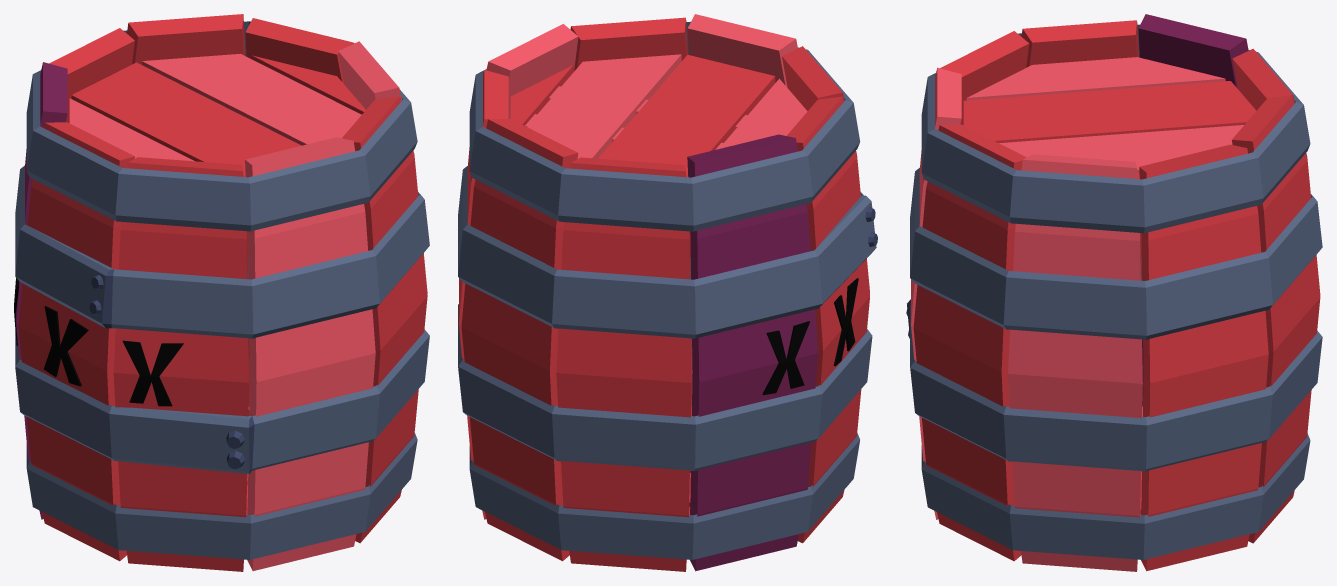
Rendered from Barrel 2_5b.fbx.
3 views of the same model, side by side, from view 1: azimuth 30°, elevation 25°; view 2: azimuth 150°, elevation 25°; view 3: azimuth 270°, elevation 25° (orthographic).
Visible parts, largest first — view 1: Barrel 2_5b.006, Barrel 2_5b.012, Barrel 2_5b.007, Barrel 2_5b.002, Barrel 2_5b.011, Barrel 2_5b.014, Barrel 2_5b.005, Barrel 2_5b.013, Barrel 2_5b.008, Barrel 2_5b.003, Barrel 2_5b.010, Barrel 2_5b.001 (+2 smaller); view 2: Barrel 2_5b.001, Barrel 2_5b.012, Barrel 2_5b.004, Barrel 2_5b.002, Barrel 2_5b.011, Barrel 2_5b.014, Barrel 2_5b.003, Barrel 2_5b.013, Barrel 2_5b.005, Barrel 2_5b.007, Barrel 2_5b.008, Barrel 2_5b.009 (+2 smaller); view 3: Barrel 2_5b.009, Barrel 2_5b.012, Barrel 2_5b.010, Barrel 2_5b.002, Barrel 2_5b.011, Barrel 2_5b.014, Barrel 2_5b.008, Barrel 2_5b.013, Barrel 2_5b.003, Barrel 2_5b.004, Barrel 2_5b.005, Barrel 2_5b.006 (+2 smaller).
Part boxes in pixels (bbox=[...]): Barrel 2_5b.006: bbox=[113, 157, 248, 571]; Barrel 2_5b.012: bbox=[15, 165, 429, 338]; Barrel 2_5b.007: bbox=[245, 137, 375, 570]; Barrel 2_5b.002: bbox=[69, 53, 365, 176]; Barrel 2_5b.011: bbox=[26, 21, 417, 231]; Barrel 2_5b.014: bbox=[15, 258, 429, 474]; Barrel 2_5b.005: bbox=[18, 122, 134, 561]; Barrel 2_5b.013: bbox=[26, 433, 417, 559]; Barrel 2_5b.008: bbox=[342, 96, 427, 543]; Barrel 2_5b.003: bbox=[127, 14, 247, 279]; Barrel 2_5b.010: bbox=[245, 18, 354, 406]; Barrel 2_5b.001: bbox=[49, 28, 134, 123]; Barrel 2_5b.001: bbox=[556, 157, 691, 571]; Barrel 2_5b.012: bbox=[458, 166, 876, 338]; Barrel 2_5b.004: bbox=[687, 134, 818, 571]; Barrel 2_5b.002: bbox=[510, 54, 807, 177]; Barrel 2_5b.011: bbox=[469, 21, 860, 231]; Barrel 2_5b.014: bbox=[458, 257, 872, 471]; Barrel 2_5b.003: bbox=[461, 118, 578, 561]; Barrel 2_5b.013: bbox=[469, 433, 859, 559]; Barrel 2_5b.005: bbox=[787, 96, 869, 543]; Barrel 2_5b.007: bbox=[687, 14, 797, 406]; Barrel 2_5b.008: bbox=[570, 17, 690, 278]; Barrel 2_5b.009: bbox=[486, 24, 578, 118]; Barrel 2_5b.009: bbox=[1008, 154, 1142, 571]; Barrel 2_5b.012: bbox=[910, 167, 1322, 339]; Barrel 2_5b.010: bbox=[1139, 144, 1268, 571]; Barrel 2_5b.002: bbox=[963, 57, 1256, 179]; Barrel 2_5b.011: bbox=[921, 24, 1310, 233]; Barrel 2_5b.014: bbox=[907, 258, 1322, 471]; Barrel 2_5b.008: bbox=[913, 124, 1026, 561]; Barrel 2_5b.013: bbox=[921, 433, 1310, 559]; Barrel 2_5b.003: bbox=[1232, 95, 1320, 543]; Barrel 2_5b.004: bbox=[1138, 14, 1248, 406]; Barrel 2_5b.005: bbox=[1021, 20, 1141, 280]; Barrel 2_5b.006: bbox=[940, 31, 1029, 125].
Size of the model in its own units: 84.55 by 90.45 by 84.04.
